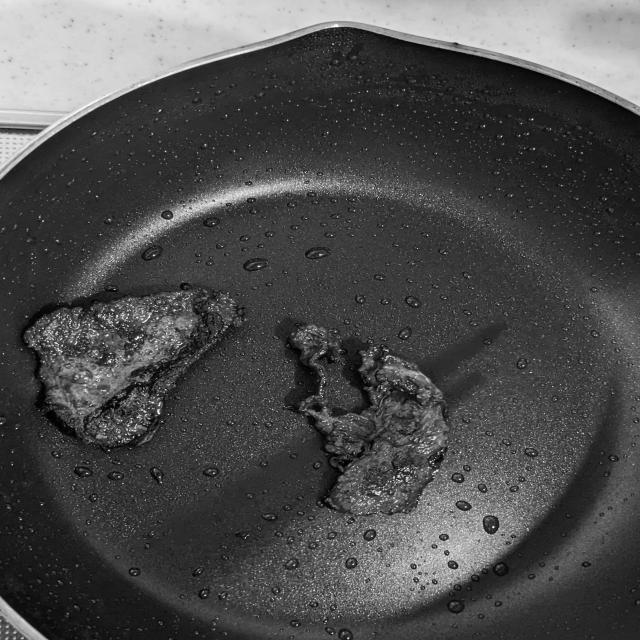overcooked beef,: (7, 278, 256, 460), (288, 317, 460, 522)
